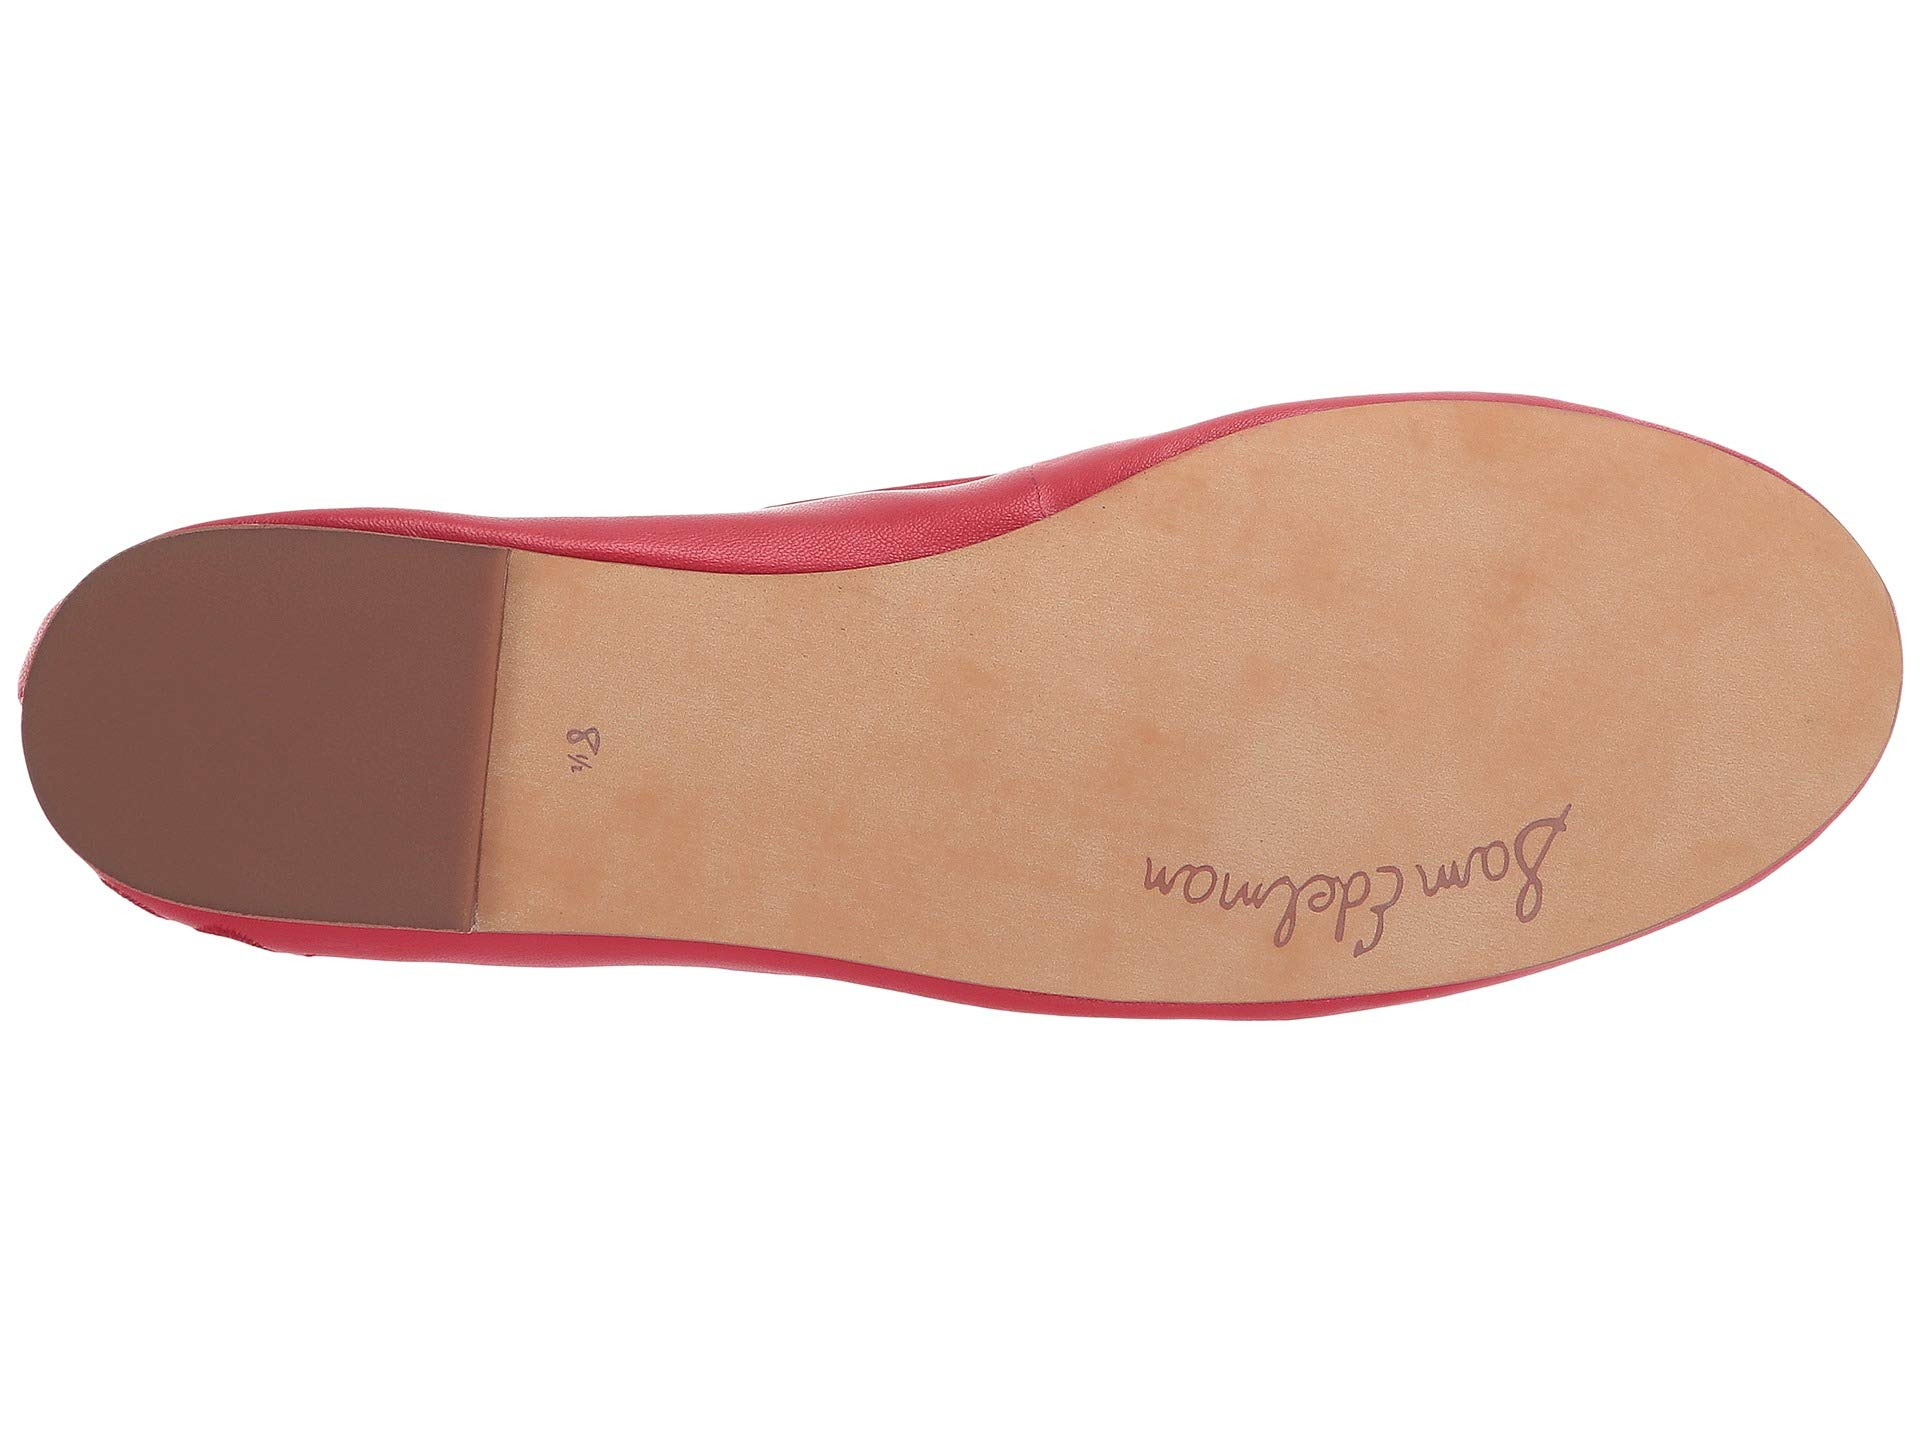text: (514, 687, 643, 820)
